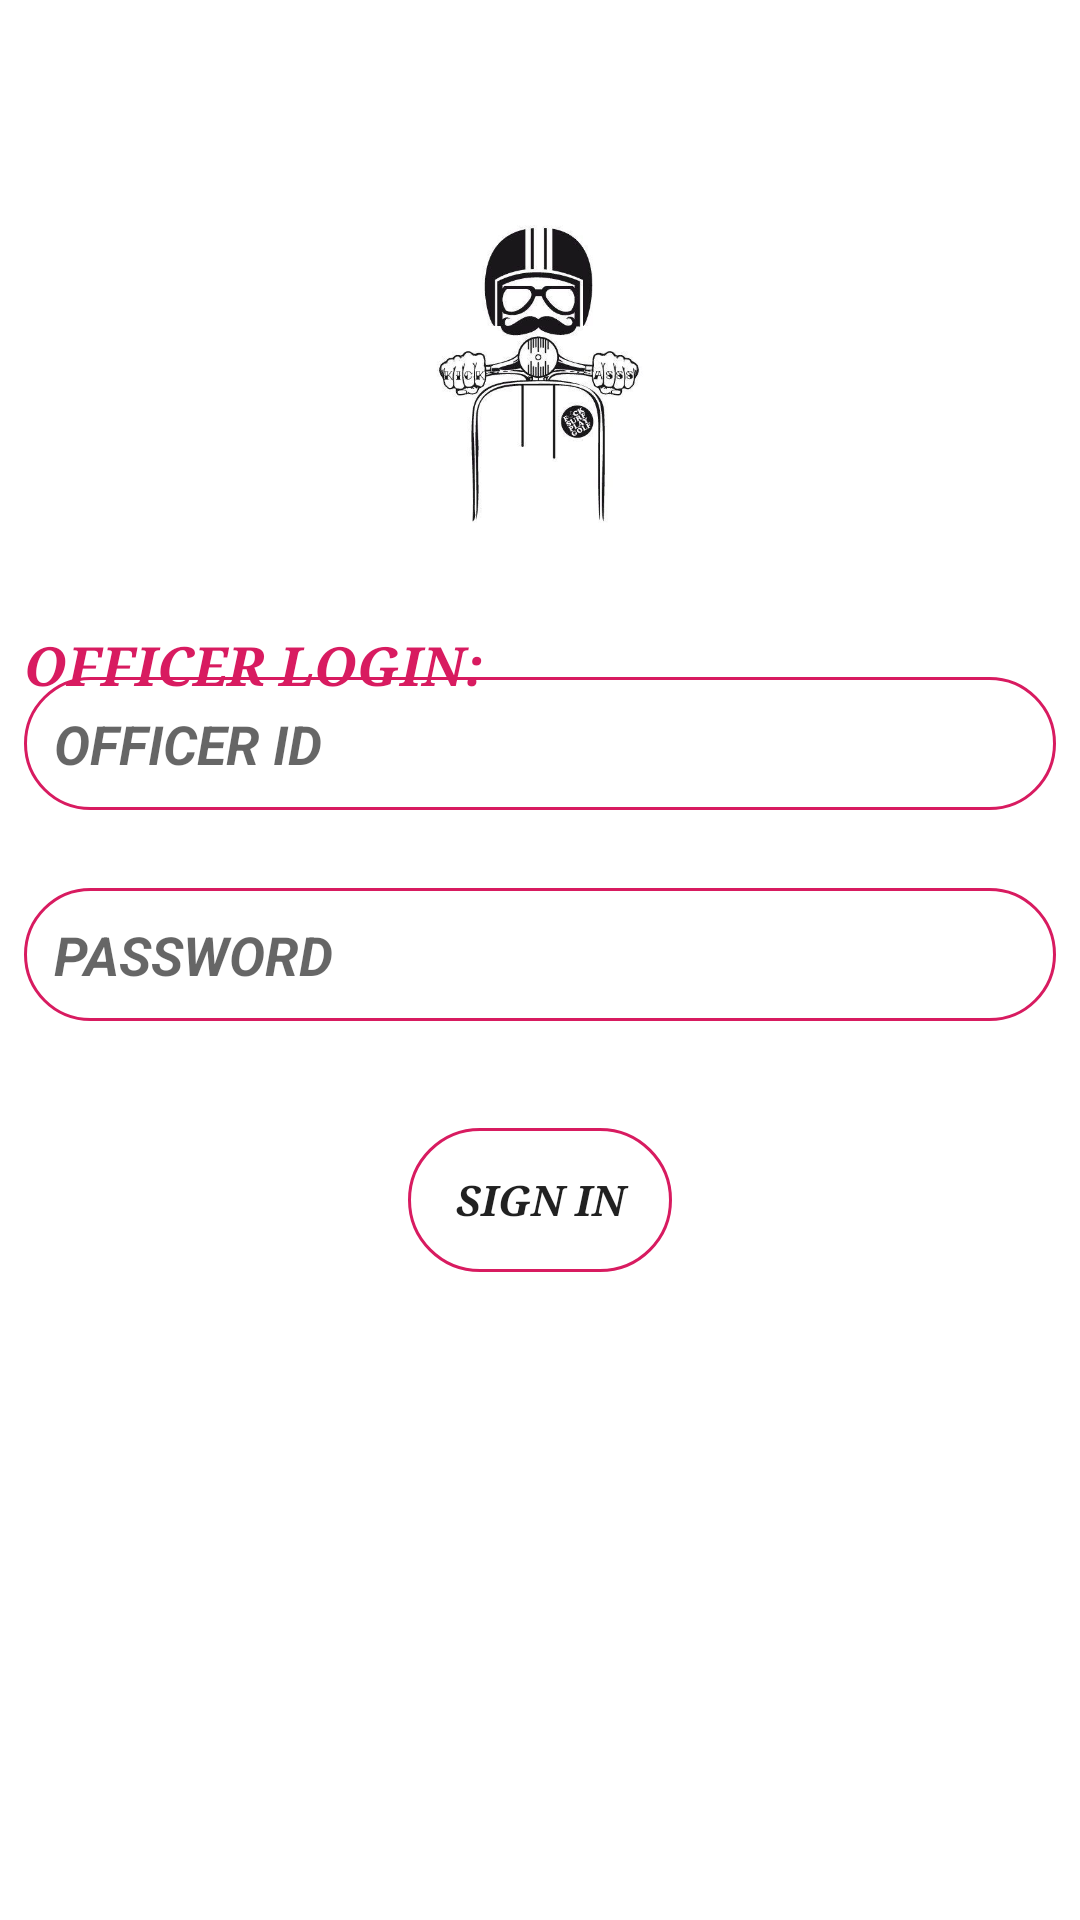

Point at icon controls on the screen. Image size 1080x1920, points as point (x, y).
photo: point (539, 375)
